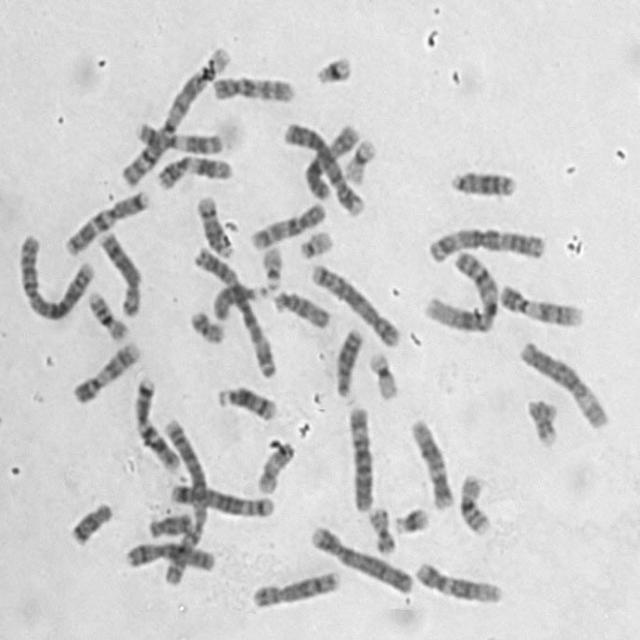A1: (117, 40, 236, 190), (418, 245, 501, 334)
A2: (157, 413, 211, 587), (14, 228, 97, 322)
A3: (188, 241, 278, 379), (424, 221, 549, 266)
B4: (281, 116, 367, 217), (305, 519, 416, 597)
B5: (307, 258, 403, 348), (167, 479, 277, 520)
C10: (246, 196, 328, 252), (208, 70, 298, 104)
C11: (133, 117, 226, 155), (153, 150, 236, 191)
C12: (408, 412, 457, 510), (411, 556, 505, 605)
C6: (516, 335, 611, 431), (344, 401, 379, 514)
C7: (60, 184, 152, 256), (129, 372, 183, 472)
C8: (94, 225, 144, 318), (248, 565, 342, 610)
C9: (69, 336, 143, 405), (494, 278, 586, 329)
D13: (446, 163, 519, 200), (331, 323, 366, 398)
D14: (192, 190, 236, 260), (213, 379, 281, 423)
D15: (270, 284, 333, 331), (210, 277, 270, 322)
E16: (454, 468, 494, 536), (83, 286, 131, 342)
E17: (253, 436, 297, 496), (522, 393, 560, 448)
E18: (66, 496, 115, 547), (144, 508, 194, 538)
F19: (364, 345, 402, 401), (340, 132, 380, 185)
F20: (364, 502, 399, 556), (186, 305, 228, 345)
G21: (311, 48, 355, 87), (390, 502, 432, 536)
G22: (295, 224, 336, 260), (258, 240, 286, 290)
X: (300, 119, 362, 204), (121, 535, 217, 574)
